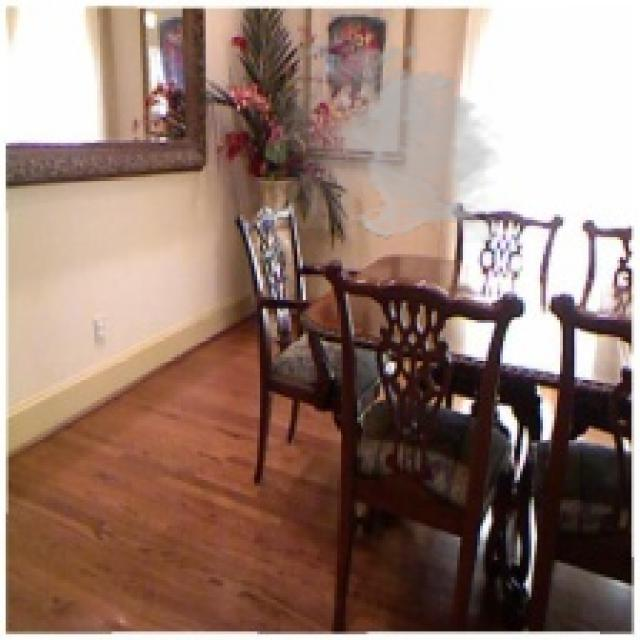smoke: (277, 31, 503, 243)
